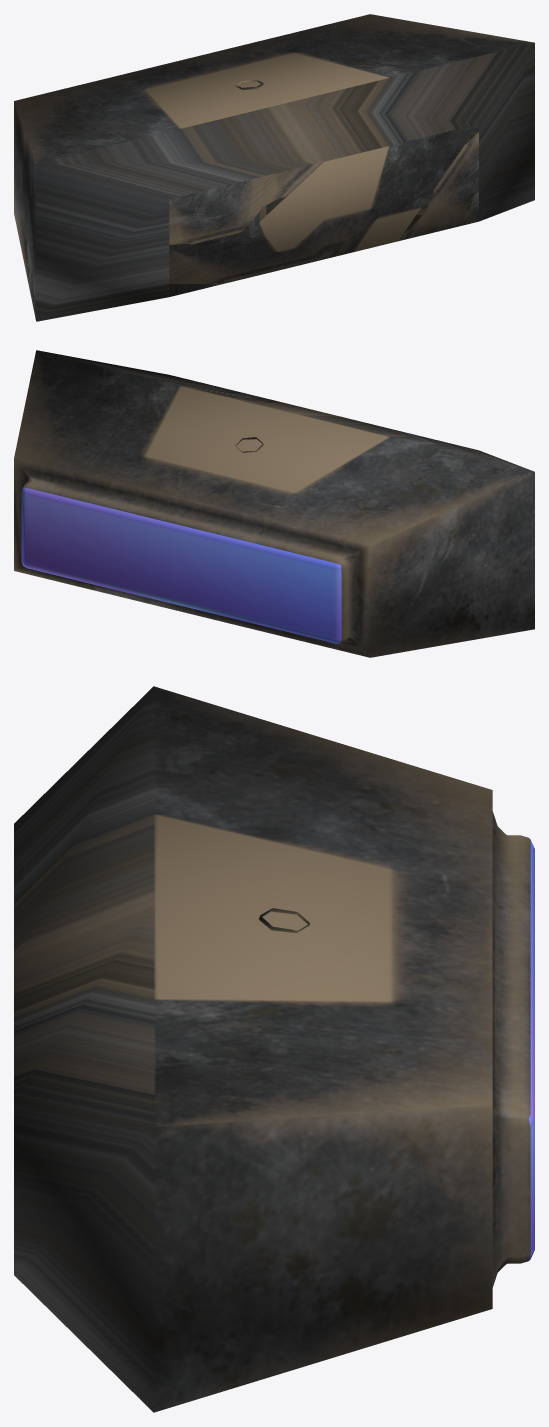
Rendered from sherman_driver_port.fbx.
3 views of the same model, one above another, from view 1: azimuth 30°, elevation 25°; view 2: azimuth 150°, elevation 25°; view 3: azimuth 270°, elevation 25° (orthographic). The views are drawn at different scales.
Parts seen in each view (by area): view 1: Cube; view 2: Cube; view 3: Cube.
Boxes of the visible parts, box(x1,y1,x2,y2) form: Cube: box(14, 14, 534, 321); Cube: box(14, 350, 534, 657); Cube: box(14, 686, 534, 1412).
Size of the model in its own units: 1232 by 374 by 615.
2 materials, 2 textured.
